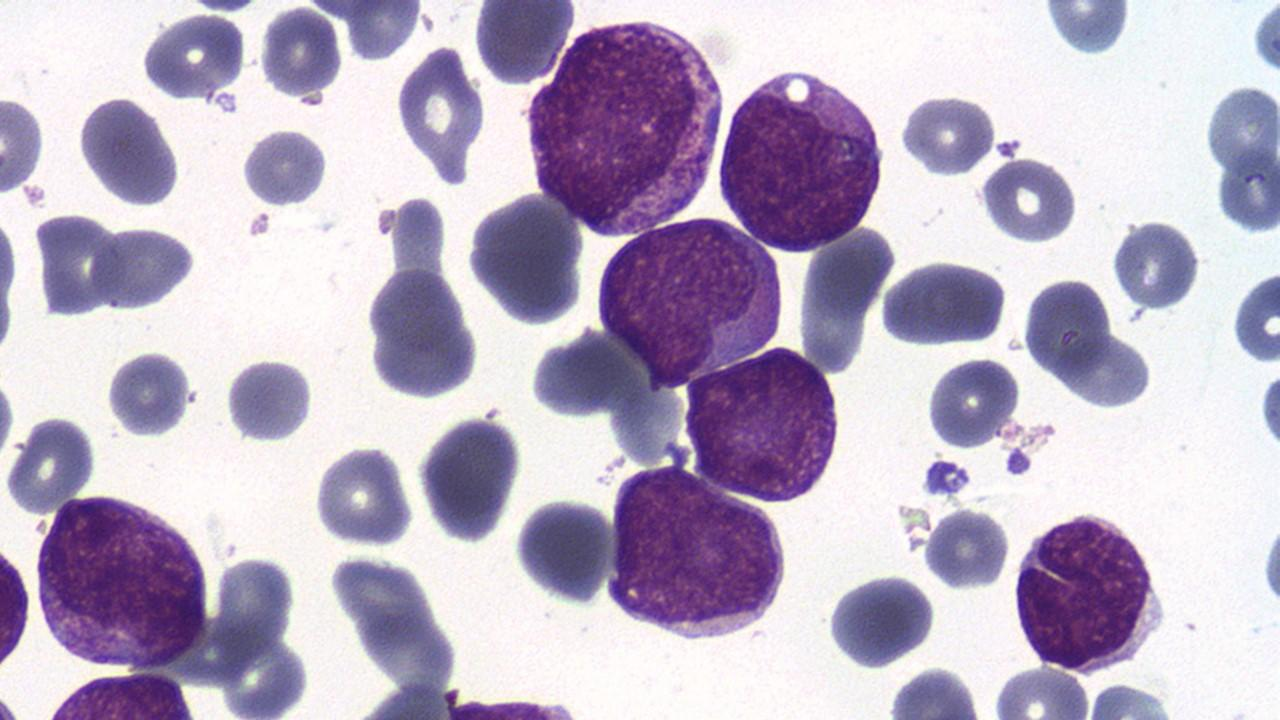Platelets: (920, 456, 972, 500), (1003, 446, 1033, 477), (992, 136, 1024, 160), (245, 210, 270, 240)
RBC: (361, 188, 485, 406), (466, 187, 588, 327), (792, 222, 894, 376), (414, 407, 527, 546), (391, 41, 490, 183), (75, 93, 184, 208), (510, 494, 618, 610), (822, 569, 940, 672), (876, 258, 1008, 348), (310, 442, 416, 549), (139, 7, 246, 107), (1, 413, 97, 518), (1020, 274, 1112, 380), (89, 225, 201, 312), (924, 354, 1022, 450), (977, 154, 1081, 244), (1109, 217, 1205, 312), (469, 2, 576, 87), (896, 92, 1000, 179), (220, 354, 316, 446), (36, 212, 117, 320), (103, 348, 194, 441), (1055, 330, 1157, 410), (258, 4, 342, 99), (922, 504, 1010, 592), (239, 127, 330, 209), (1213, 140, 1279, 237), (988, 660, 1094, 716), (1038, 2, 1136, 60), (1229, 265, 1280, 366), (1, 94, 48, 198), (345, 1, 422, 64), (0, 540, 32, 674), (1250, 0, 1280, 80), (1256, 364, 1280, 457), (1259, 512, 1280, 614), (0, 203, 19, 313), (0, 364, 18, 473)
WBC: (521, 11, 730, 240), (600, 462, 792, 646), (590, 212, 786, 388), (712, 62, 888, 253), (28, 489, 209, 667), (1008, 506, 1172, 674), (681, 343, 846, 505), (39, 668, 207, 717)
